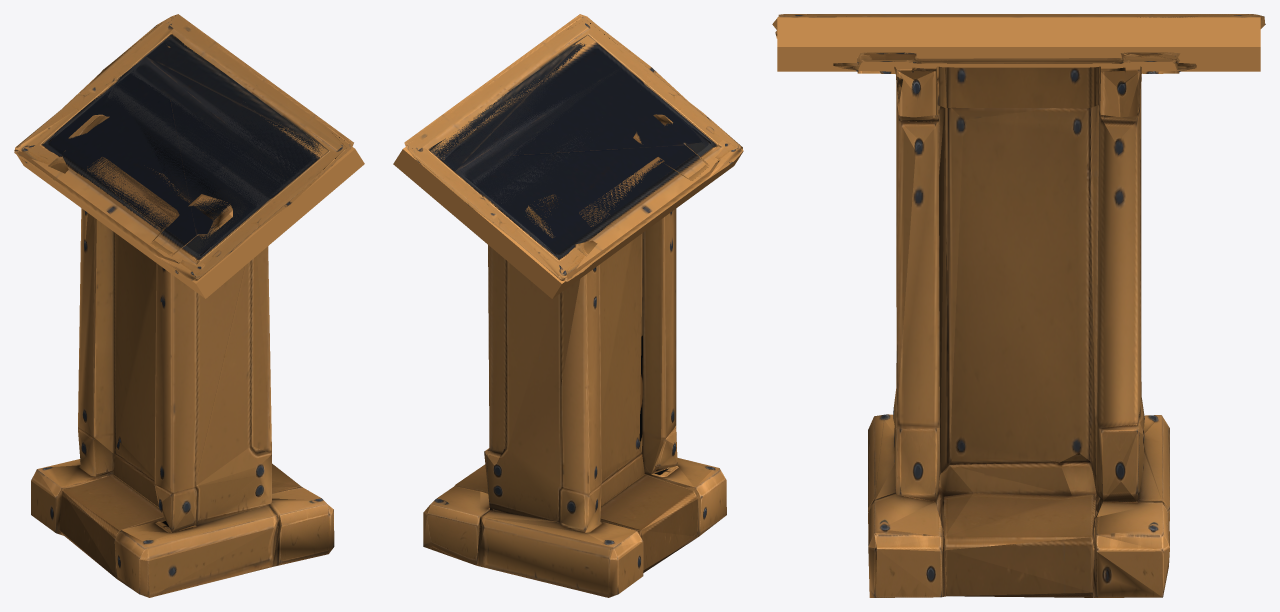
Rendered from zhurnal-stoyka.glb.
The picture shows the model from 3 angles, left to right: view 1: azimuth 30°, elevation 25°; view 2: azimuth 150°, elevation 25°; view 3: azimuth 270°, elevation 25°; orthographic projection. The views are drawn at different scales.
Parts seen in each view (by area): view 1: zhurnal-stoyka; view 2: zhurnal-stoyka; view 3: zhurnal-stoyka.
Boxes of the visible parts, <box> form: zhurnal-stoyka: <box>14,14,364,597</box>; zhurnal-stoyka: <box>393,14,743,597</box>; zhurnal-stoyka: <box>772,14,1265,597</box>.
Size of the model in its own units: 0.6 by 1.27 by 0.98.
Materials: 1 (1 with a texture image).
